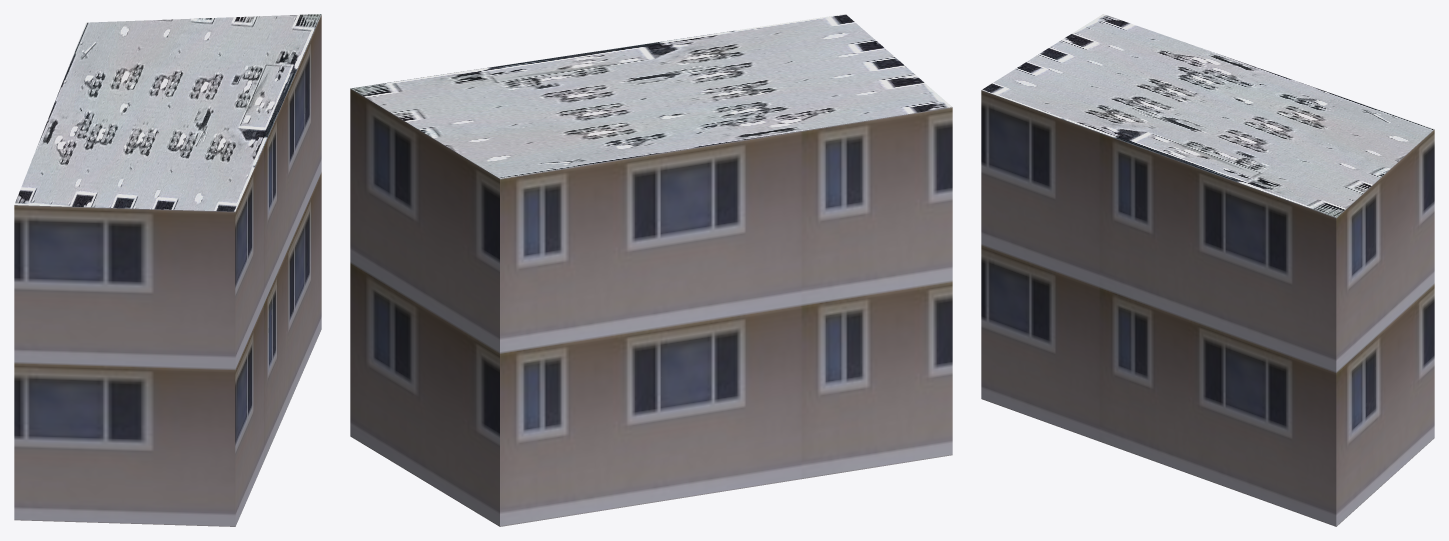
File: ResTex__836.fbx
3 renders of one model, left to right at view 1: azimuth 30°, elevation 25°; view 2: azimuth 150°, elevation 25°; view 3: azimuth 270°, elevation 25°, orthographic. The views are drawn at different scales.
Parts seen in each view (by area): view 1: CityEngineMaterial_21_m, CityEngineMaterial_4_m; view 2: CityEngineMaterial_21_m, CityEngineMaterial_4_m; view 3: CityEngineMaterial_21_m, CityEngineMaterial_4_m.
Part boxes in pixels (x1,y1,x2,y2): CityEngineMaterial_21_m: (14, 14, 321, 526); CityEngineMaterial_4_m: (14, 14, 321, 211); CityEngineMaterial_21_m: (350, 88, 952, 526); CityEngineMaterial_4_m: (351, 14, 951, 178); CityEngineMaterial_21_m: (981, 90, 1434, 526); CityEngineMaterial_4_m: (982, 14, 1434, 217).
Size of the model in its own units: 8.49 by 6 by 7.97.
2 materials, 2 textured.
